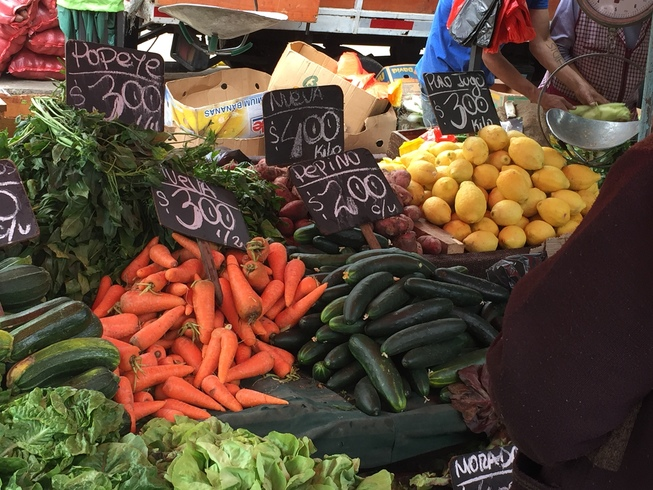precio: (52, 36, 176, 138), (291, 139, 408, 237), (143, 158, 252, 251), (256, 77, 361, 169), (420, 61, 517, 158), (1, 162, 52, 256)
